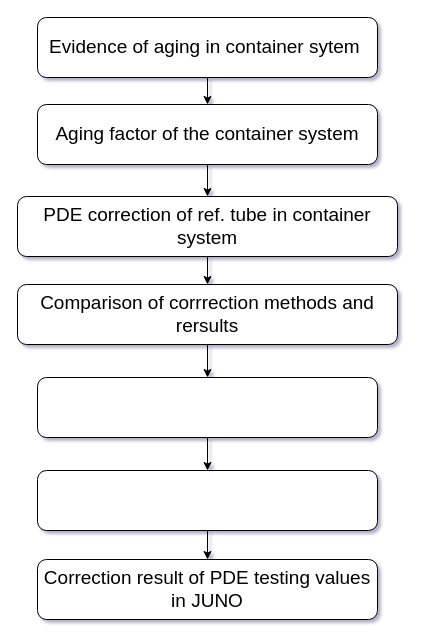
The diagram is 421 pixels wide and 643 high, and some of its shapes have lost their labels. Each missing label, with the centre of its shape:
"Consistency check of correction result" goes at [207,500].
"Corrected PDE test values in JUNO" goes at [207,407].
